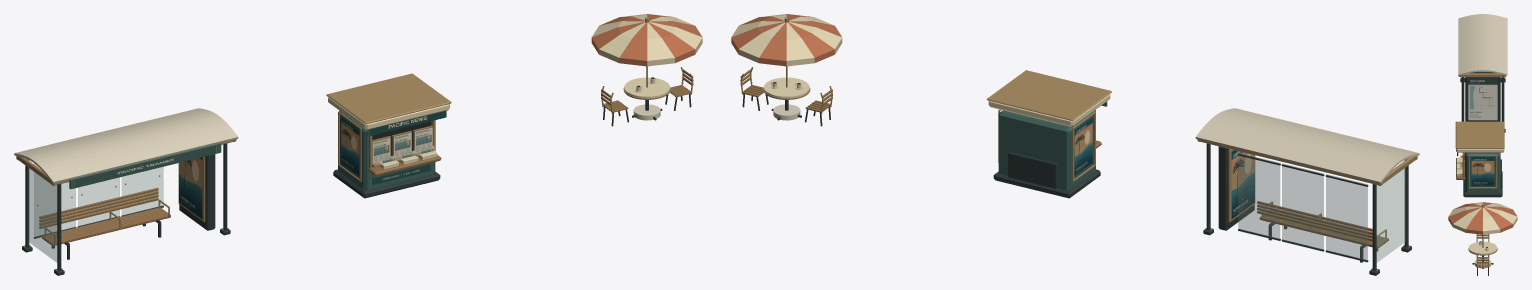
File: city-streetscape.glb
The picture shows the model from 3 angles, left to right: view 1: azimuth 30°, elevation 25°; view 2: azimuth 150°, elevation 25°; view 3: azimuth 270°, elevation 25°; orthographic projection. The views are drawn at different scales.
Parts seen in each view (by area): view 1: BusShelter / City / warm enamel, BusShelter / City / smoked safety glass, NewsKiosk / City / brushed bronze, NewsKiosk / City / original printed graphics, CafeSet / City / woven linen, BusShelter / City / oiled teak, BusShelter / City / graphite powdercoat, BusShelter / City / original printed graphics, CafeSet / City / burnt sienna fabric, NewsKiosk / City / petrol enamel, NewsKiosk / City / woven linen, BusShelter / City / brushed bronze (+5 smaller); view 2: BusShelter / City / smoked safety glass, BusShelter / City / warm enamel, NewsKiosk / City / petrol enamel, NewsKiosk / City / brushed bronze, BusShelter / City / graphite powdercoat, CafeSet / City / woven linen, CafeSet / City / burnt sienna fabric, BusShelter / City / oiled teak, NewsKiosk / City / graphite powdercoat, BusShelter / City / original printed graphics, BusShelter / City / brushed bronze, NewsKiosk / City / original printed graphics (+3 smaller); view 3: BusShelter / City / warm enamel, NewsKiosk / City / brushed bronze, BusShelter / City / original printed graphics, CafeSet / City / woven linen, CafeSet / City / burnt sienna fabric, BusShelter / City / graphite powdercoat, NewsKiosk / City / petrol enamel, NewsKiosk / City / original printed graphics, NewsKiosk / City / graphite powdercoat, NewsKiosk / City / woven linen, BusShelter / City / brushed bronze, CafeSet / City / oiled teak (+3 smaller).
Boxes of the visible parts, x1=… form: BusShelter / City / warm enamel: x1=14, y1=108, x2=238, y2=183; BusShelter / City / smoked safety glass: x1=28, y1=163, x2=163, y2=262; NewsKiosk / City / brushed bronze: x1=326, y1=73, x2=451, y2=181; NewsKiosk / City / original printed graphics: x1=341, y1=111, x2=445, y2=185; CafeSet / City / woven linen: x1=592, y1=14, x2=702, y2=98; BusShelter / City / oiled teak: x1=39, y1=187, x2=170, y2=245; BusShelter / City / graphite powdercoat: x1=22, y1=143, x2=230, y2=275; BusShelter / City / original printed graphics: x1=75, y1=145, x2=216, y2=218; CafeSet / City / burnt sienna fabric: x1=591, y1=14, x2=702, y2=66; NewsKiosk / City / petrol enamel: x1=338, y1=110, x2=446, y2=190; NewsKiosk / City / woven linen: x1=328, y1=97, x2=449, y2=169; BusShelter / City / brushed bronze: x1=16, y1=139, x2=236, y2=270; BusShelter / City / smoked safety glass: x1=1238, y1=153, x2=1405, y2=262; BusShelter / City / warm enamel: x1=1195, y1=108, x2=1419, y2=183; NewsKiosk / City / petrol enamel: x1=998, y1=101, x2=1107, y2=190; NewsKiosk / City / brushed bronze: x1=987, y1=70, x2=1111, y2=181; BusShelter / City / graphite powdercoat: x1=1203, y1=143, x2=1411, y2=275; CafeSet / City / woven linen: x1=731, y1=14, x2=842, y2=98; CafeSet / City / burnt sienna fabric: x1=731, y1=14, x2=841, y2=66; BusShelter / City / oiled teak: x1=1257, y1=201, x2=1388, y2=248; NewsKiosk / City / graphite powdercoat: x1=993, y1=152, x2=1100, y2=198; BusShelter / City / original printed graphics: x1=1231, y1=150, x2=1254, y2=218; BusShelter / City / brushed bronze: x1=1197, y1=139, x2=1417, y2=270; NewsKiosk / City / original printed graphics: x1=1074, y1=117, x2=1092, y2=175; BusShelter / City / warm enamel: x1=1458, y1=14, x2=1507, y2=75; NewsKiosk / City / brushed bronze: x1=1455, y1=121, x2=1504, y2=188; BusShelter / City / original printed graphics: x1=1468, y1=78, x2=1497, y2=120; CafeSet / City / woven linen: x1=1448, y1=202, x2=1517, y2=254; CafeSet / City / burnt sienna fabric: x1=1448, y1=202, x2=1517, y2=234; BusShelter / City / graphite powdercoat: x1=1460, y1=72, x2=1505, y2=132; NewsKiosk / City / petrol enamel: x1=1457, y1=152, x2=1500, y2=192; NewsKiosk / City / original printed graphics: x1=1471, y1=157, x2=1494, y2=185; NewsKiosk / City / graphite powdercoat: x1=1463, y1=152, x2=1502, y2=197; NewsKiosk / City / woven linen: x1=1456, y1=149, x2=1504, y2=176; BusShelter / City / brushed bronze: x1=1459, y1=73, x2=1506, y2=77; CafeSet / City / oiled teak: x1=1477, y1=234, x2=1488, y2=267.
Bounding box in the file's own units: 20.32 × 3.06 × 2.96.
Materials: 10 (1 with a texture image).
